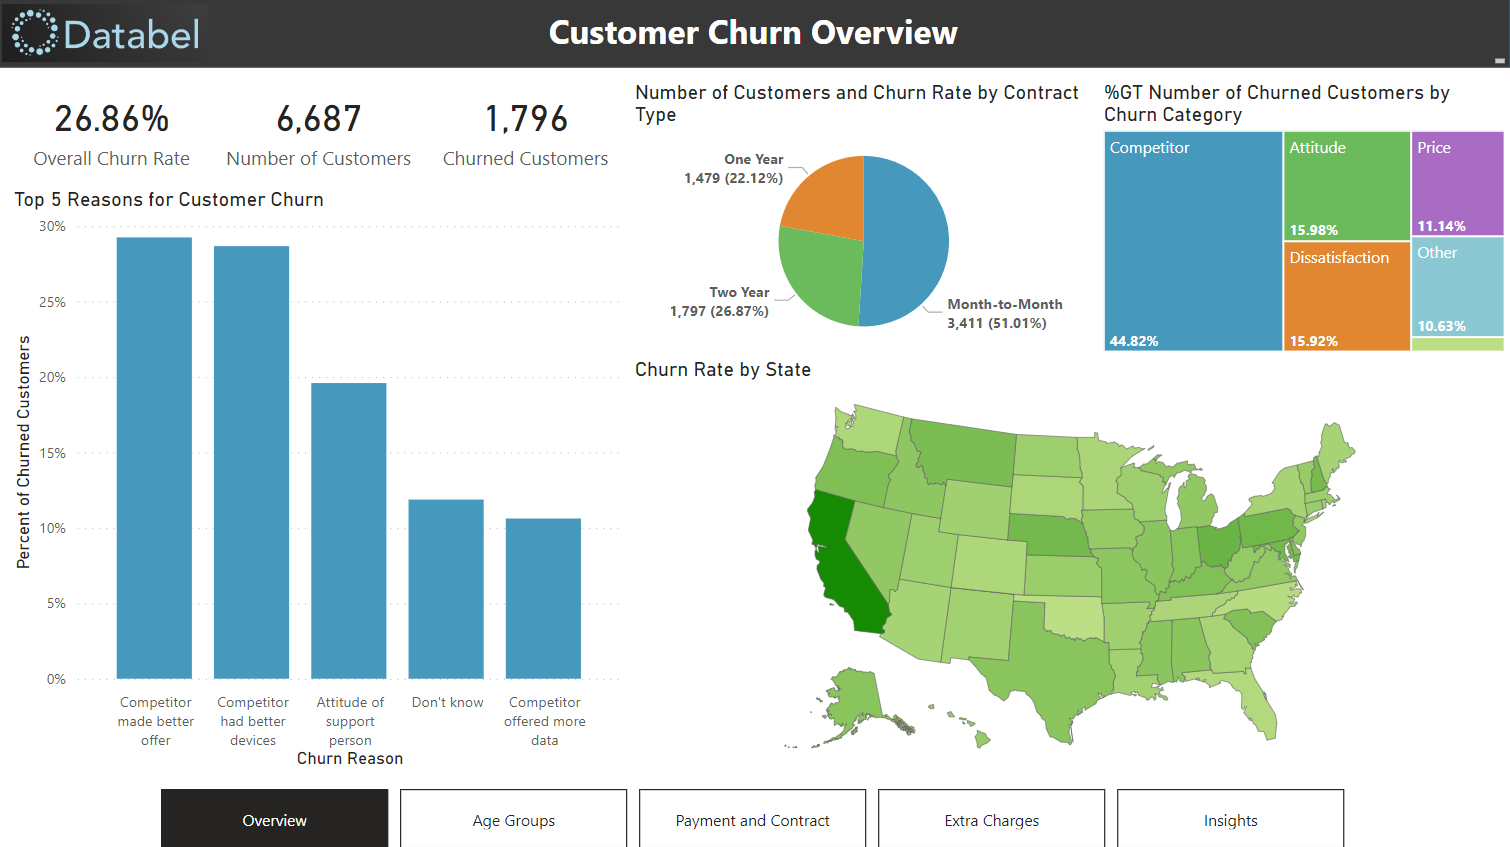

The page's visual inventory and layout, read from the dashboard file:
{"tool":"powerbi","page":{"name":"Overview","canvas":[1280,720],"ordinal":0},"visuals":[{"type":"shape","box":[0,0,1280,60],"z":0},{"type":"image","box":[0,0,178.8,60],"z":1000},{"type":"card","fields":{"Values":["_Calculations.Overall Churn Rate"]},"box":[10,70,175,80.2],"z":2000},{"type":"clusteredColumnChart","title":"Top 5 Reasons for Customer Churn","fields":{"Category":["Databel - Data.Churn Reason"],"Y":["Divide(_Calculations.Number of Churned Customers, ScopedEval(_Calculations.Number of Churned Customers, []))"]},"box":[10,160.4,524.3,495.6],"z":3000},{"type":"pageNavigator","box":[139.8,669.3,1000.4,50.4],"z":4000},{"type":"textbox","title":"Customer Churn Overview","box":[0,0,1280,60.7],"z":5000},{"type":"card","fields":{"Values":["_Calculations.Number of Customers"]},"box":[185,70,175,80.2],"z":6000},{"type":"card","fields":{"Values":["_Calculations.Number of Churned Customers"]},"box":[360,70,175,80],"z":7000},{"type":"treemap","fields":{"Group":["Databel - Data.Churn Category"],"Values":["_Calculations.Number of Churned Customers"]},"box":[931.5,69.9,348.5,234.4],"z":8000},{"type":"pieChart","fields":{"Category":["Databel - Data.Contract Type"],"Y":["_Calculations.Number of Customers"]},"box":[534.6,69.9,396.9,234.4],"z":9000},{"type":"shapeMap","fields":{"Value":["_Calculations.Churn Rate"],"Category":["Databel - Data.State"]},"box":[534.6,304.3,745.4,351.6],"z":10000}]}

Visuals, with their boxes in screenshot pixels (x1, y1, x2, y2), scaled from the page's 1280x720 canvas onto the 1510x847 screenshot:
shape: 0/0/1509/71
image: 0/0/211/71
card - _Calculations.Overall Churn Rate: 12/82/218/177
"Top 5 Reasons for Customer Churn" clusteredColumnChart: 12/189/630/772
pageNavigator: 165/787/1345/846
"Customer Churn Overview" textbox: 0/0/1509/71
card - _Calculations.Number of Customers: 218/82/425/177
card - _Calculations.Number of Churned Customers: 425/82/631/176
treemap - Databel - Data.Churn Category x _Calculations.Number of Churned Customers: 1099/82/1509/358
pieChart - Databel - Data.Contract Type x _Calculations.Number of Customers: 631/82/1099/358
shapeMap - _Calculations.Churn Rate x Databel - Data.State: 631/358/1509/772
